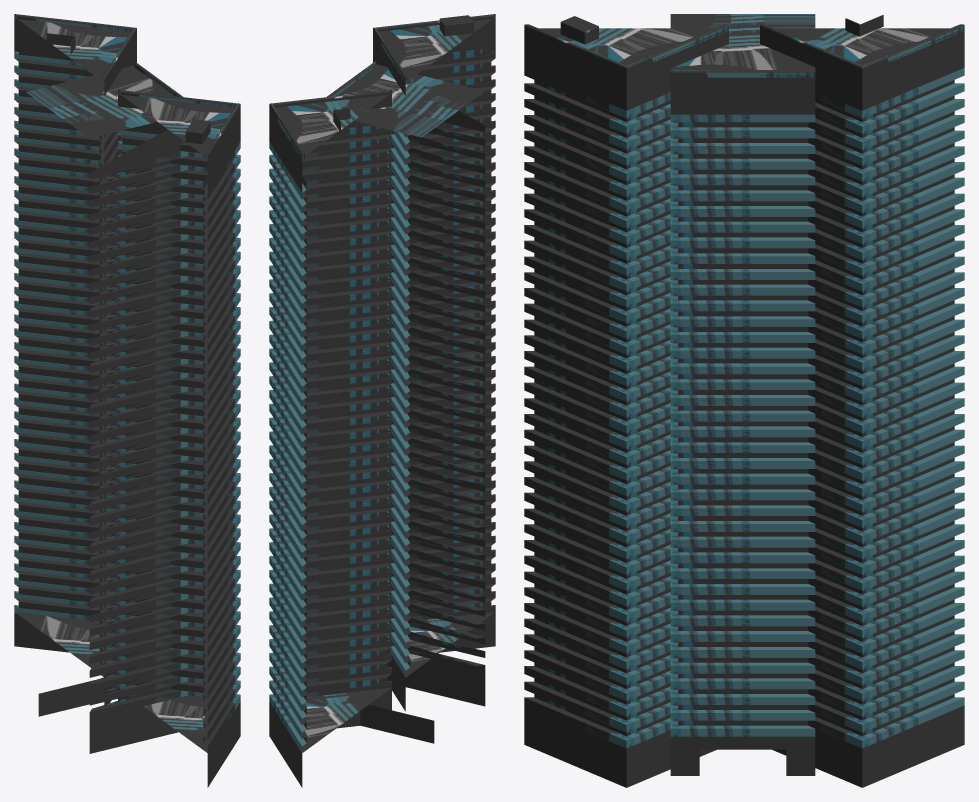
Rendered from Building_14.fbx.
The picture shows the model from 3 angles, left to right: view 1: azimuth 30°, elevation 25°; view 2: azimuth 150°, elevation 25°; view 3: azimuth 270°, elevation 25°; orthographic projection. The views are drawn at different scales.
Visible parts, largest first — view 1: b_14; view 2: b_14; view 3: b_14.
Part boxes in pixels (x1,y1,x2,y2): b_14: (14, 14, 240, 787); b_14: (269, 14, 495, 787); b_14: (524, 14, 964, 787).
Size of the model in its own units: 3.77 by 17.51 by 9.59.
